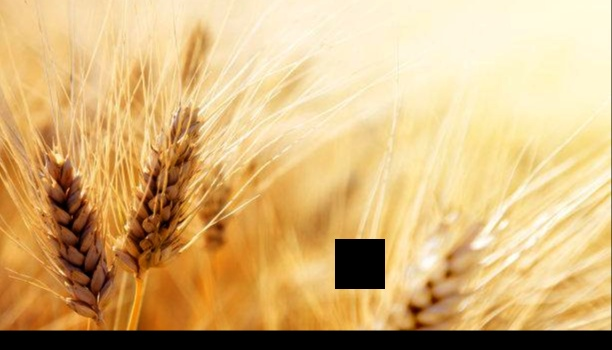wheat: (124, 46, 233, 297), (20, 114, 117, 315)
